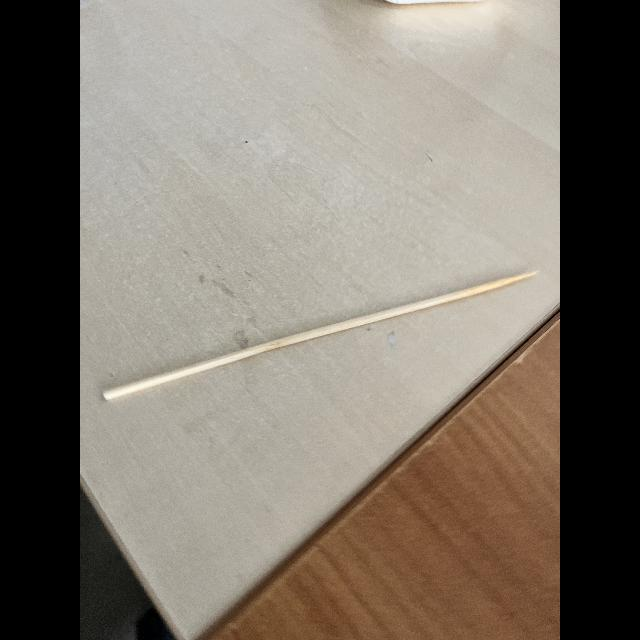stick: (88, 267, 546, 405)
